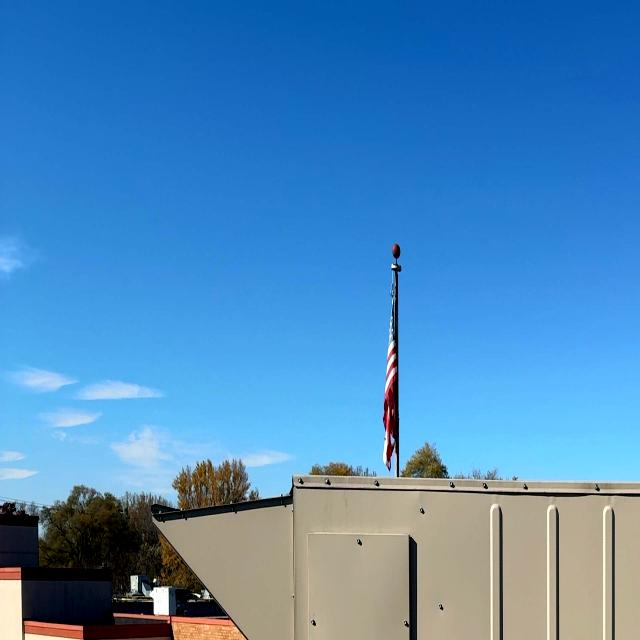RTU: (145, 480, 640, 640)
